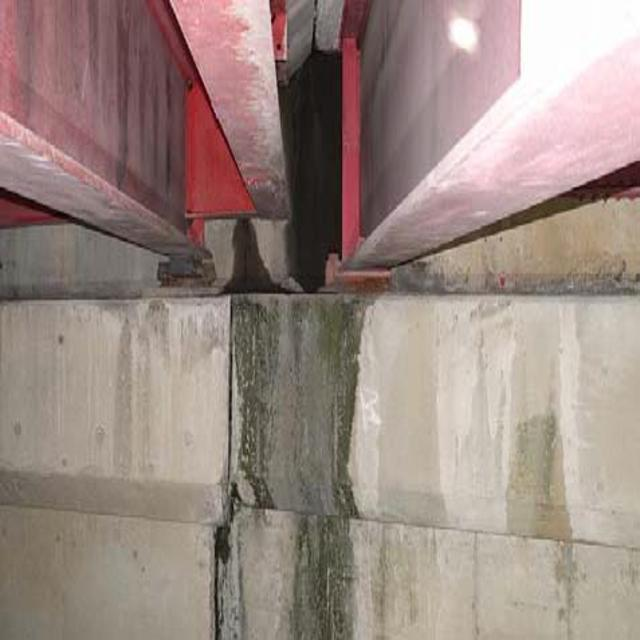leakage: (226, 222, 357, 638)
